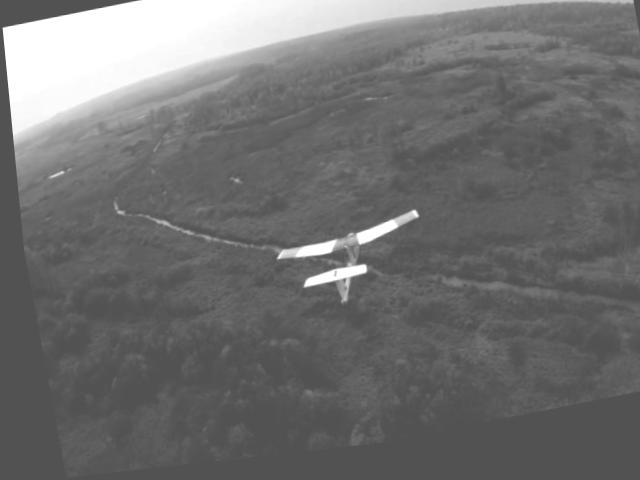hedef: (267, 208, 434, 328)
